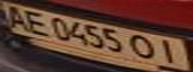0: (45, 15, 72, 43)
4: (66, 19, 87, 47)
5: (103, 26, 127, 55), (84, 22, 106, 51)
A: (0, 2, 30, 32)
E: (21, 8, 51, 36)
I: (151, 37, 187, 65)
O: (127, 33, 160, 62)
